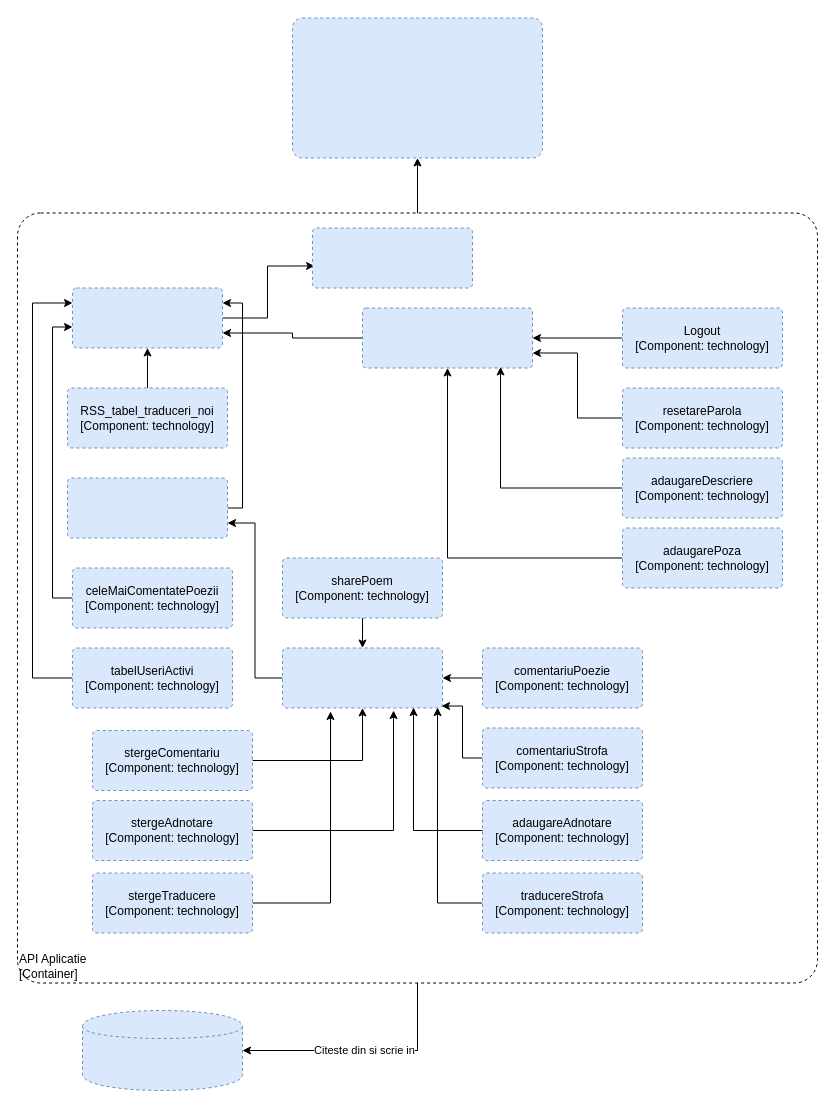
The diagram is 835 pixels wide and 1108 high, and some of its shapes have lost their labels. Here are the shapes that lost their labels. From the top down, the box of each, then its label:
(292, 17, 542, 158): Aplicatia Web [Container: technology ]
(312, 227, 472, 288): Sign up [Component: technology ]
(72, 287, 222, 348): Login [Component: technology]
(362, 307, 532, 368): Setari [Container: technology ]
(66, 477, 228, 538): tabelPoezii [Component: technology ]
(282, 647, 442, 708): vizualizarePoezie [Component: technology ]
(82, 1010, 242, 1090): Database [Container: technology]
